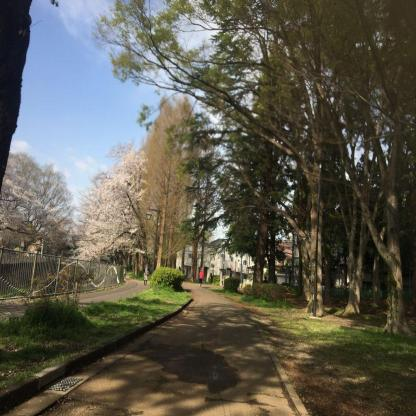Someiyoshino: (68, 137, 151, 274), (0, 160, 58, 254)
